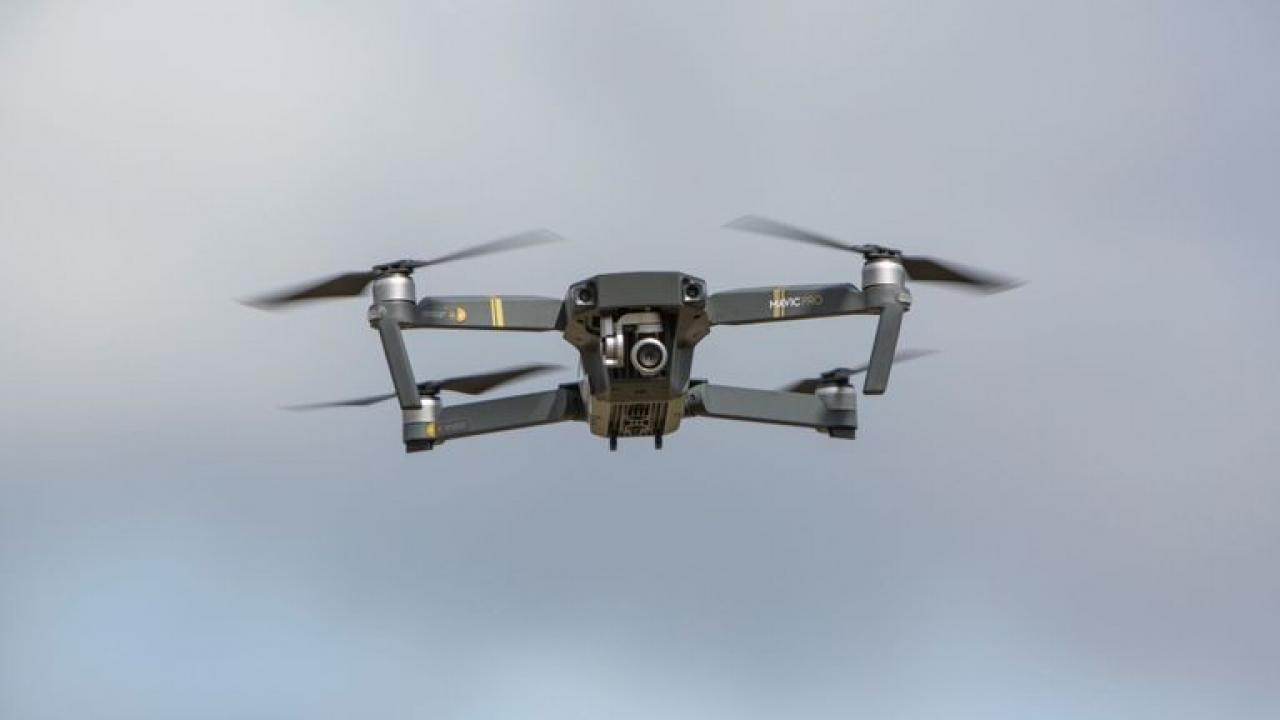Drone: (224, 200, 1040, 462)
